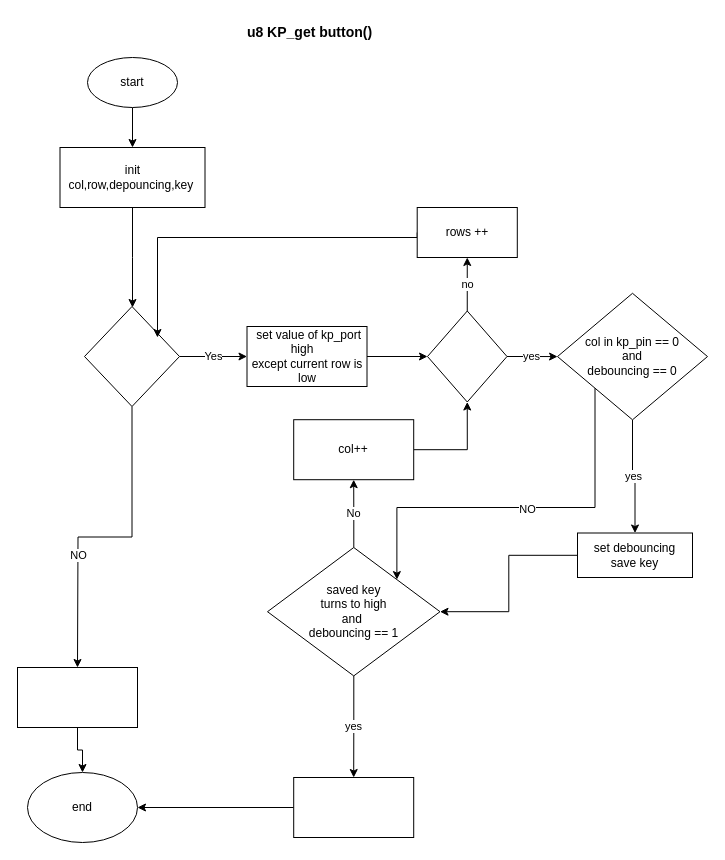
The diagram is 725 pixels wide and 860 high, and some of its shapes have lost their labels. The shapes that lost their labels are listed below. From the top down, each one's box as (x1, y1, x2, y2) in pixels, then its label:
(84, 306, 180, 406): row < no_of_rows
(426, 310, 507, 402): col < no_of_cols
(16, 666, 138, 728): return key = 0
(293, 776, 414, 838): clear debouncing return pressed
